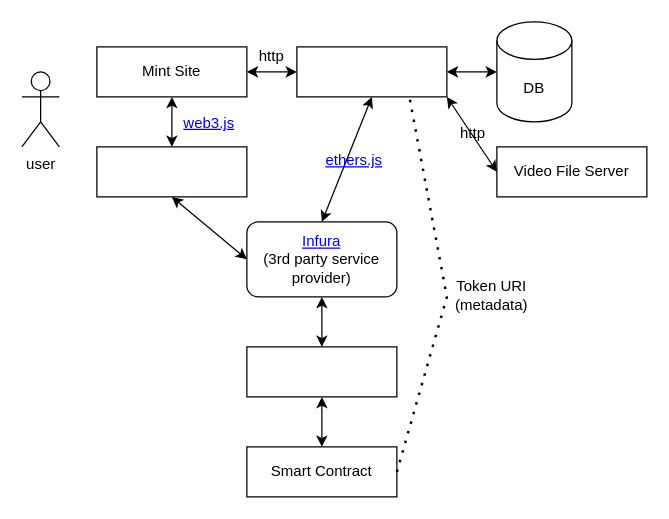
This 669x519 diagram has some shape labels left out. Each missing label, with the centre of its shape:
Backend API: (371,71)
ETH Node: (321,371)
Wallet (Metamask, etc): (171,171)
